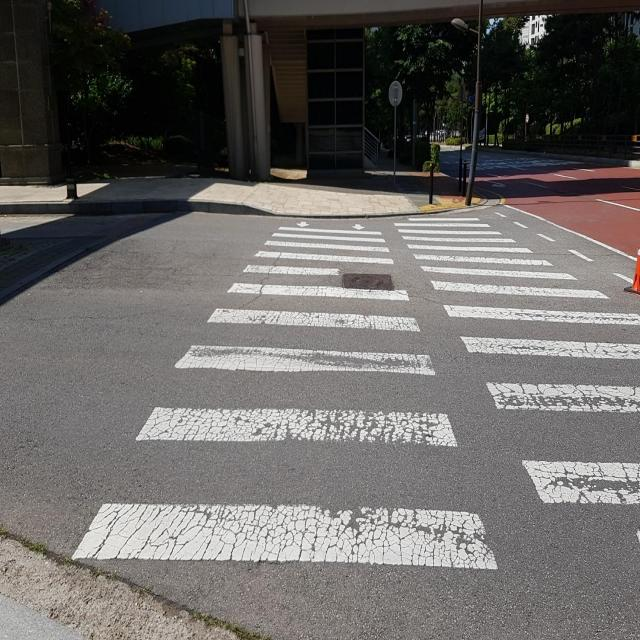횡단보도: (71, 212, 640, 573)
